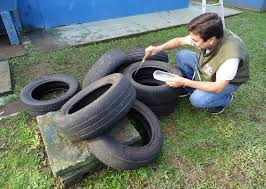tire: (85, 97, 165, 171), (59, 71, 137, 141), (18, 76, 86, 118), (82, 48, 133, 102), (121, 58, 183, 101)
